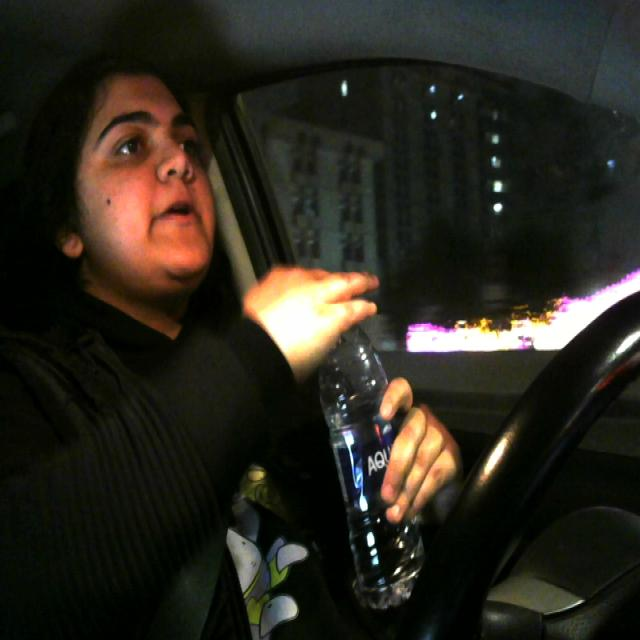drinking: (318, 291, 449, 610)
